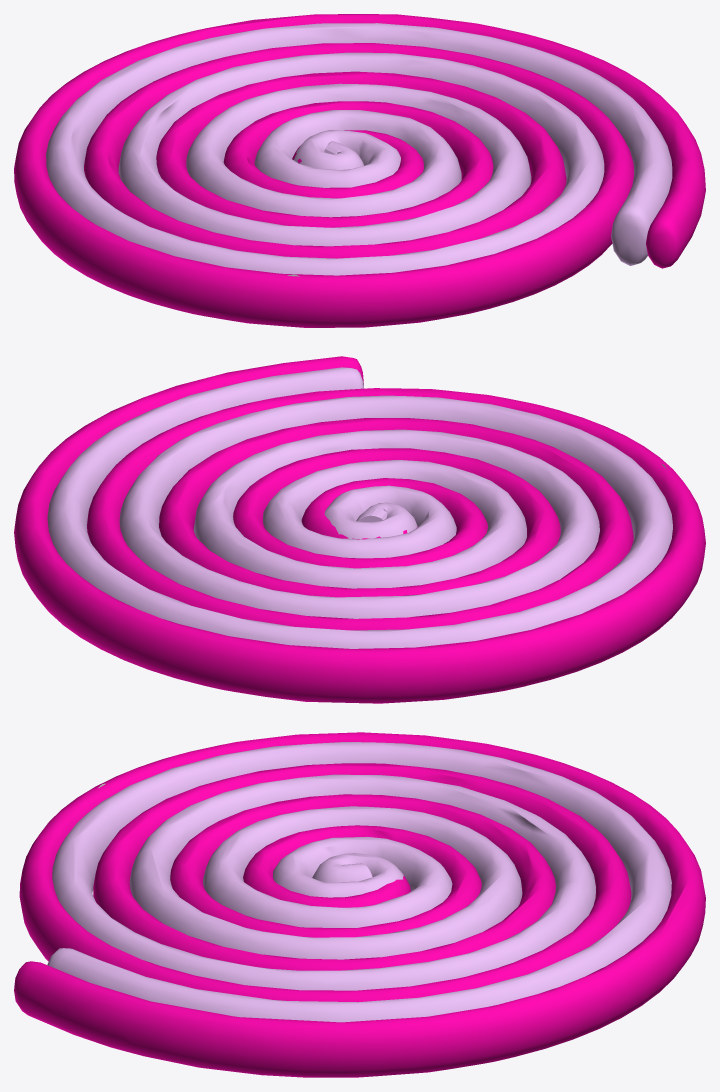
Rendered from lollipop1_LODs.fbx.
3 views of the same model, one above another, from view 1: azimuth 30°, elevation 25°; view 2: azimuth 150°, elevation 25°; view 3: azimuth 270°, elevation 25° (orthographic). The views are drawn at different scales.
Parts seen in each view (by area): view 1: Lollipop1_LOD0; view 2: Lollipop1_LOD0; view 3: Lollipop1_LOD0.
Boxes of the visible parts, x1,y1,x2,y2 form: Lollipop1_LOD0: (14,14,705,327); Lollipop1_LOD0: (14,356,705,703); Lollipop1_LOD0: (14,732,705,1077).
Size of what is drawn, in the model's own units: 208 by 20.25 by 199.
